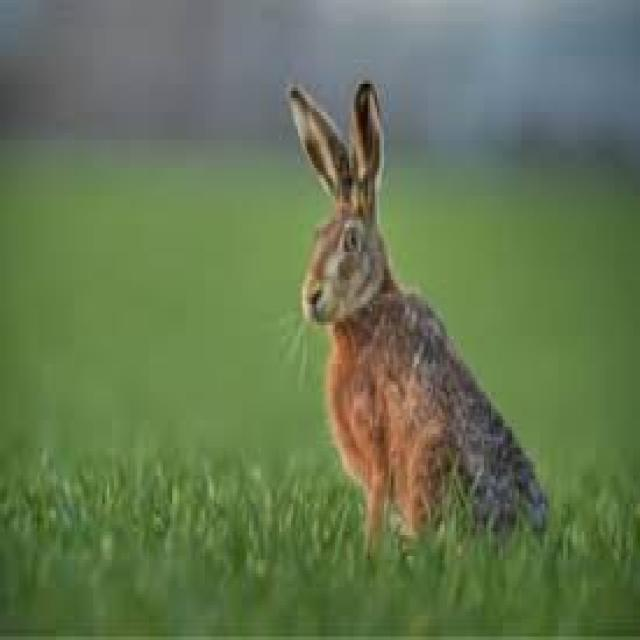Hare: (279, 70, 552, 546)
